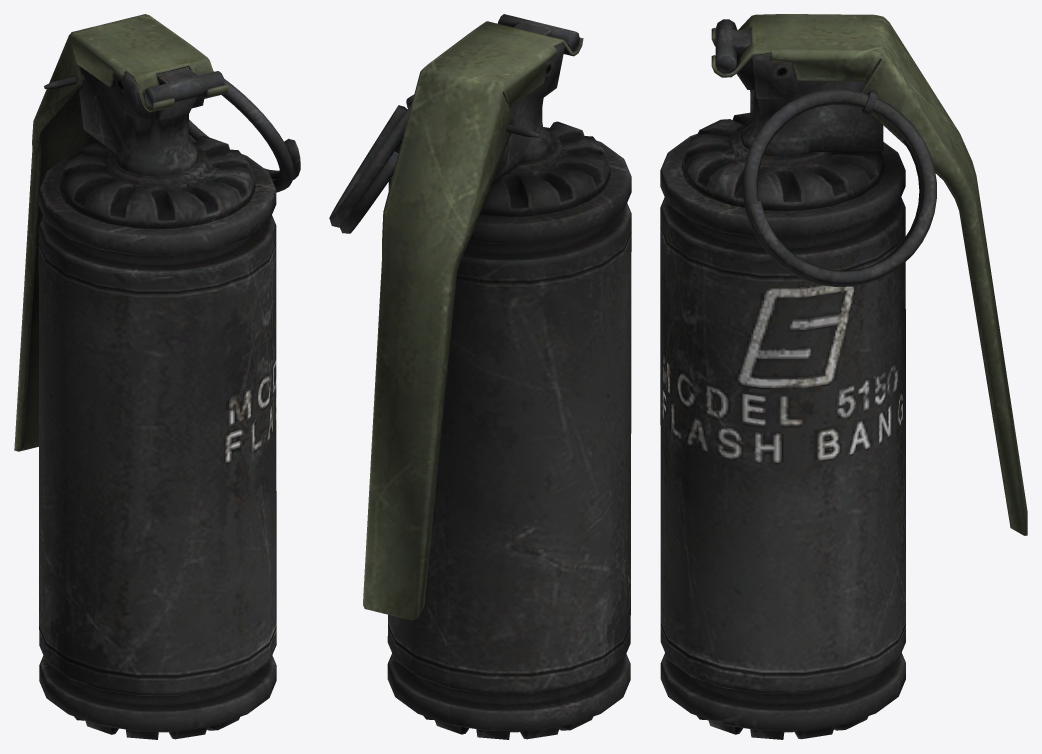
Rendered from Weapons_Grenades_FlashBang_LOD0.glb.
The picture shows the model from 3 angles, left to right: view 1: azimuth 30°, elevation 25°; view 2: azimuth 150°, elevation 25°; view 3: azimuth 270°, elevation 25°; orthographic projection. The views are drawn at different scales.
Parts seen in each view (by area): view 1: Hoodie; view 2: Hoodie; view 3: Hoodie.
Part boxes in pixels (x1,y1,x2,y2): Hoodie: (14, 14, 300, 739); Hoodie: (329, 14, 631, 739); Hoodie: (660, 14, 1027, 739).
Bounding box in the file's own units: 0.0581 × 0.1494 × 0.0734.
Materials: 1 (1 with a texture image).
